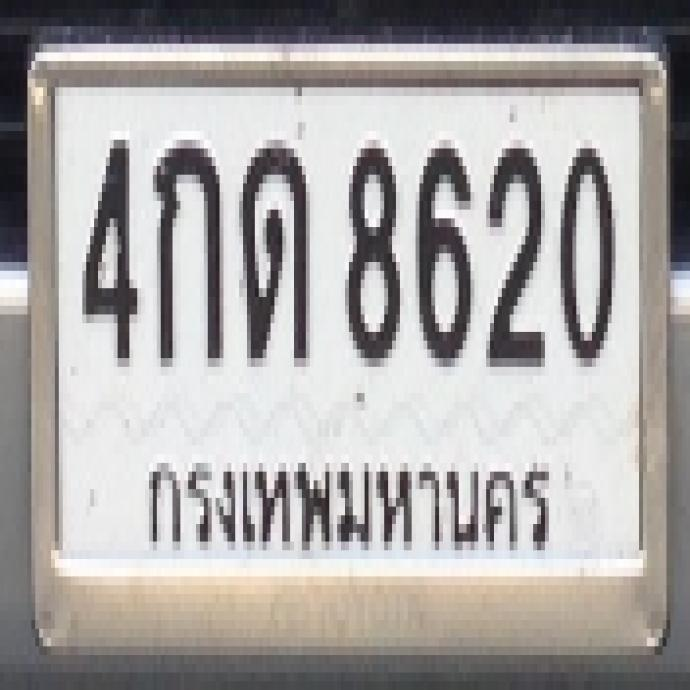0: (557, 139, 611, 359)
2: (483, 139, 540, 359)
4: (79, 130, 133, 358)
6: (414, 137, 469, 358)
8: (342, 135, 396, 358)
A01: (149, 132, 218, 359)
A20: (237, 131, 305, 357)
BKK: (133, 432, 561, 578)
